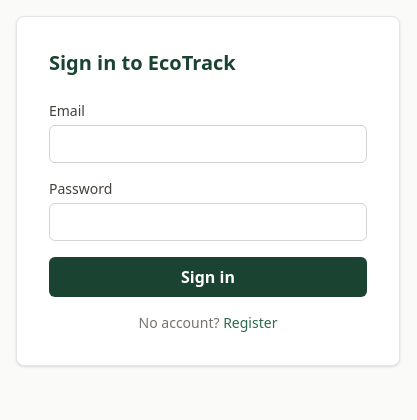
Test: LoginPage › displays the real server error message when login fails, and does NOT navigate
This screenshot has width=417, height=420.
Type "citizen@example.com" into the field at (208, 144), box left=49, top=125, right=367, bottom=163
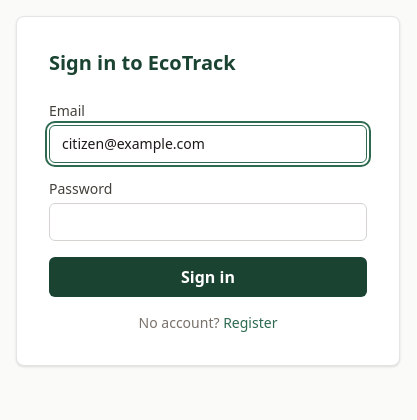
Type "wrongpassword" into the password field at (208, 222), box left=49, top=203, right=367, bottom=241
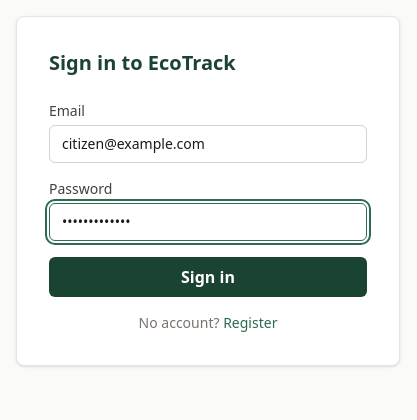
Click the button "Sign in" at (208, 277), box left=49, top=257, right=367, bottom=297
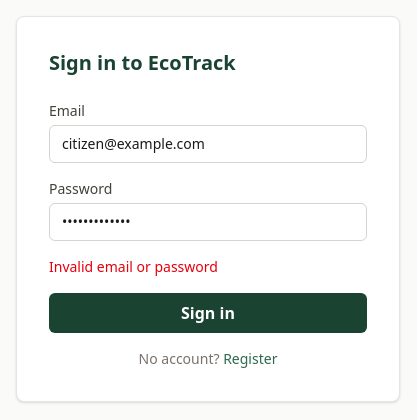
Expected: the text "Invalid email or password" is shown, left=49, top=257, right=218, bottom=276
